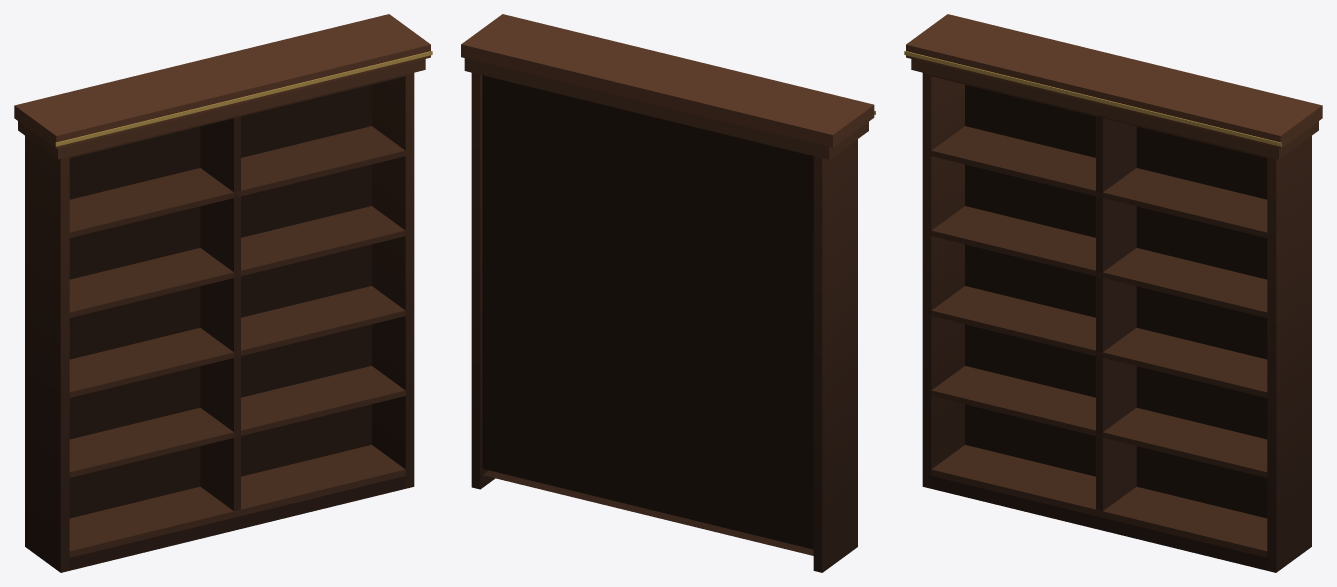
File: SM_Bookcase_Tall_2m.fbx
The picture shows the model from 3 angles, left to right: view 1: azimuth 30°, elevation 25°; view 2: azimuth 150°, elevation 25°; view 3: azimuth 330°, elevation 25°; orthographic projection.
Parts seen in each view (by area): view 1: SM_Bookcase_Tall_2m; view 2: SM_Bookcase_Tall_2m; view 3: SM_Bookcase_Tall_2m.
Boxes of the visible parts, x1,y1,x2,y2 form: SM_Bookcase_Tall_2m: (14,14,432,572); SM_Bookcase_Tall_2m: (461,14,875,572); SM_Bookcase_Tall_2m: (904,14,1322,572).
Bounding box in the file's own units: 2.13 × 2.4 × 0.415.
